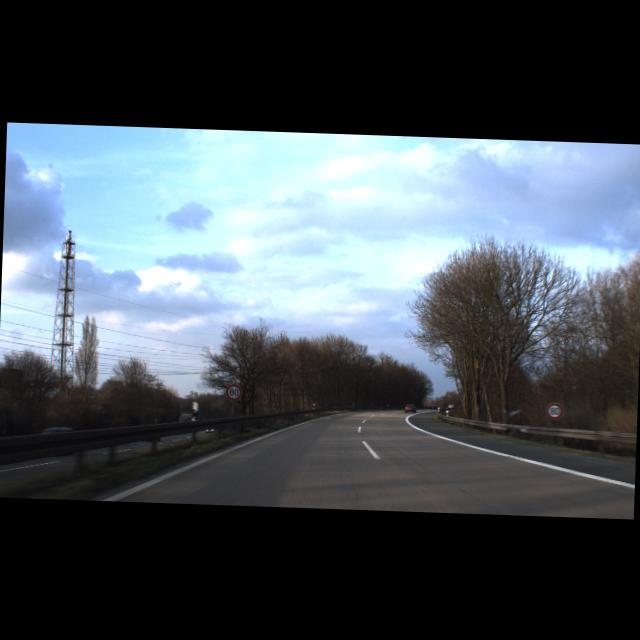prohibitory: (544, 400, 564, 420), (225, 382, 242, 400)
